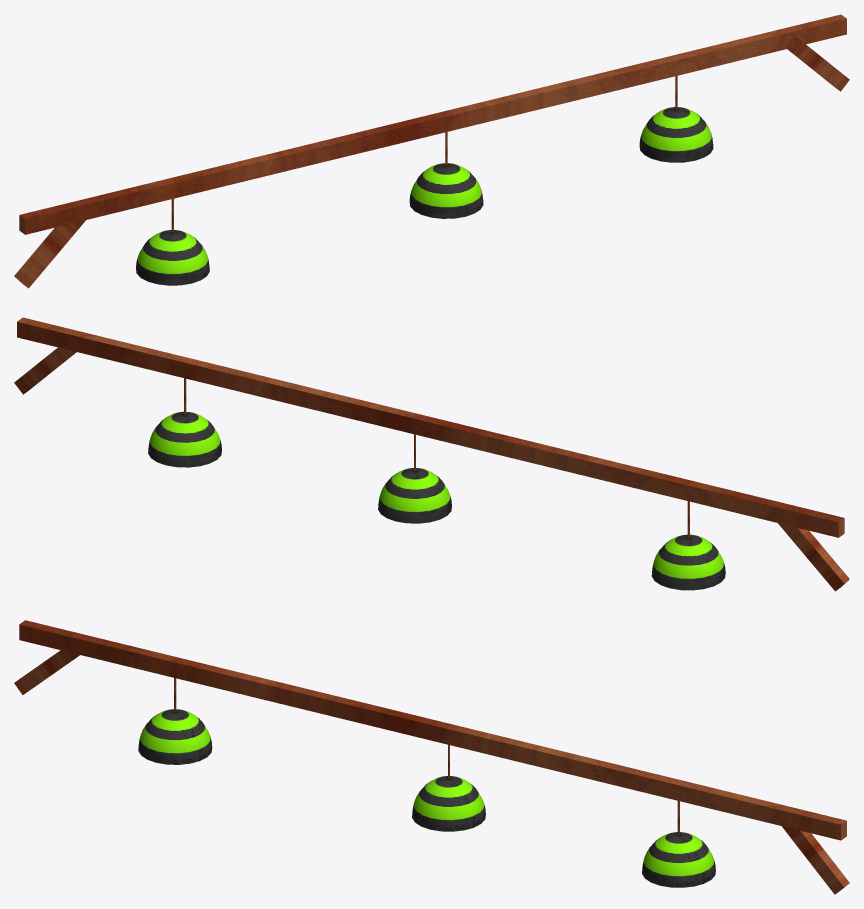
Rendered from b_lamp.fbx.
3 renders of one model, top to bottom at view 1: azimuth 30°, elevation 25°; view 2: azimuth 150°, elevation 25°; view 3: azimuth 330°, elevation 25°, orthographic.
Parts seen in each view (by area): view 1: b_lamp; view 2: b_lamp; view 3: b_lamp.
Boxes of the visible parts, box(x1,y1,x2,y2) form: b_lamp: box(14, 14, 849, 288); b_lamp: box(14, 317, 849, 591); b_lamp: box(14, 620, 849, 894).
Size of the model in its own units: 4996 by 523 by 388.
